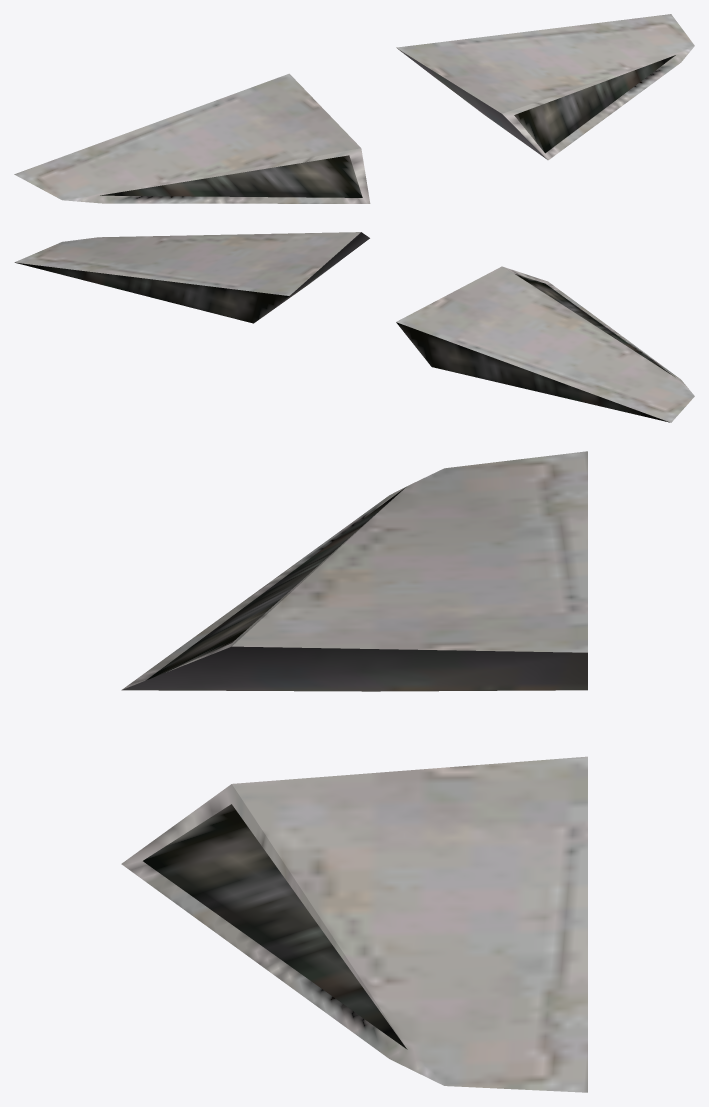
Rendered from hutt_fighter_heavy_struct_s01_l2.fbx.
The picture shows the model from 3 angles, top to bottom: view 1: azimuth 30°, elevation 25°; view 2: azimuth 150°, elevation 25°; view 3: azimuth 270°, elevation 25°; orthographic projection. The views are drawn at different scales.
Parts seen in each view (by area): view 1: mesh_node; view 2: mesh_node; view 3: mesh_node.
Part boxes in pixels (x1,y1,x2,y2): mesh_node: [14, 14, 694, 203]; mesh_node: [14, 232, 694, 422]; mesh_node: [121, 451, 587, 1092].
Size of the model in its own units: 28.24 by 1.49 by 8.68.
